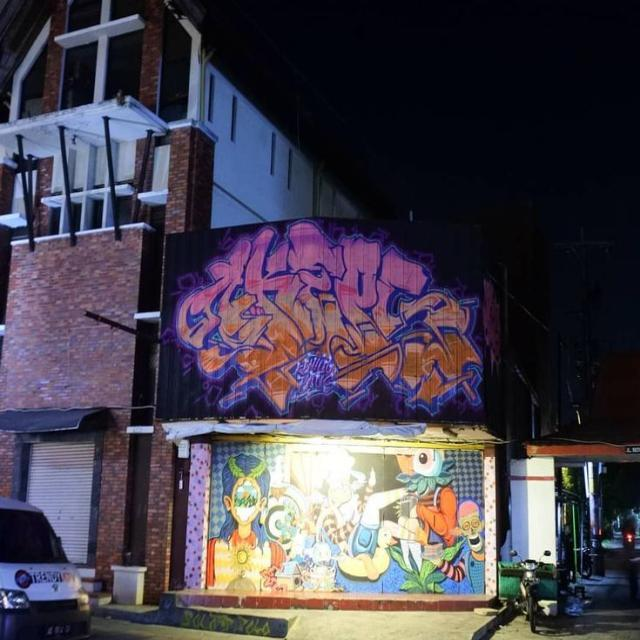-: (170, 220, 482, 410), (208, 446, 486, 592)
